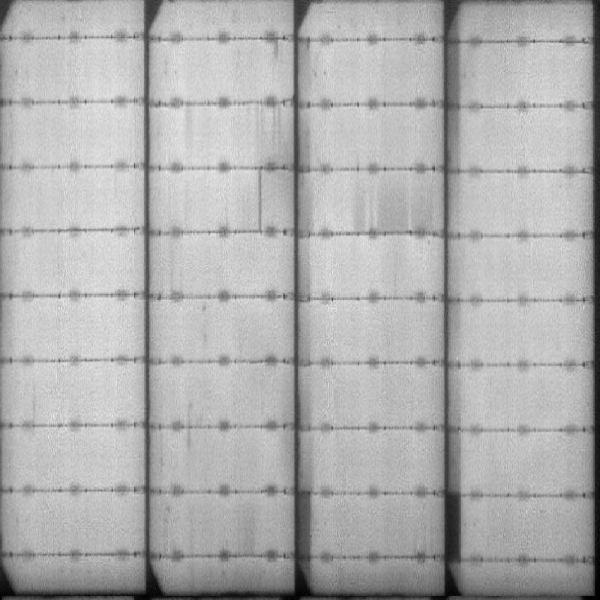black_border: (290, 495, 313, 580), (440, 494, 465, 564)
scratch: (252, 168, 268, 228)
